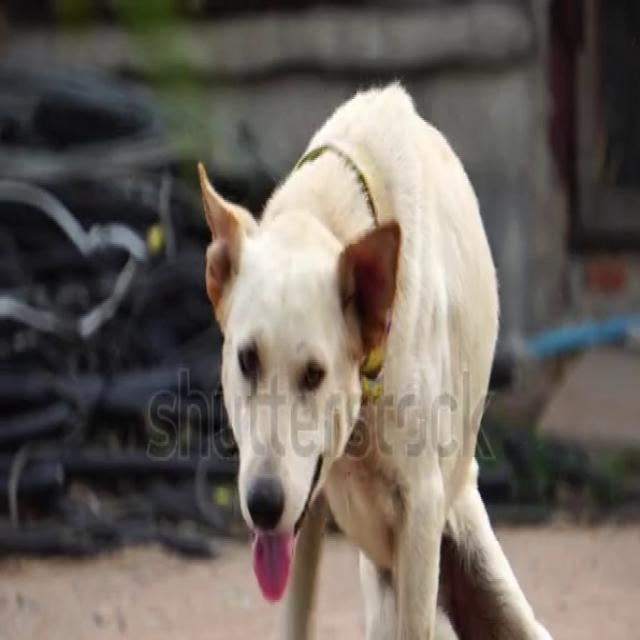normal_animals: (191, 76, 578, 638)
